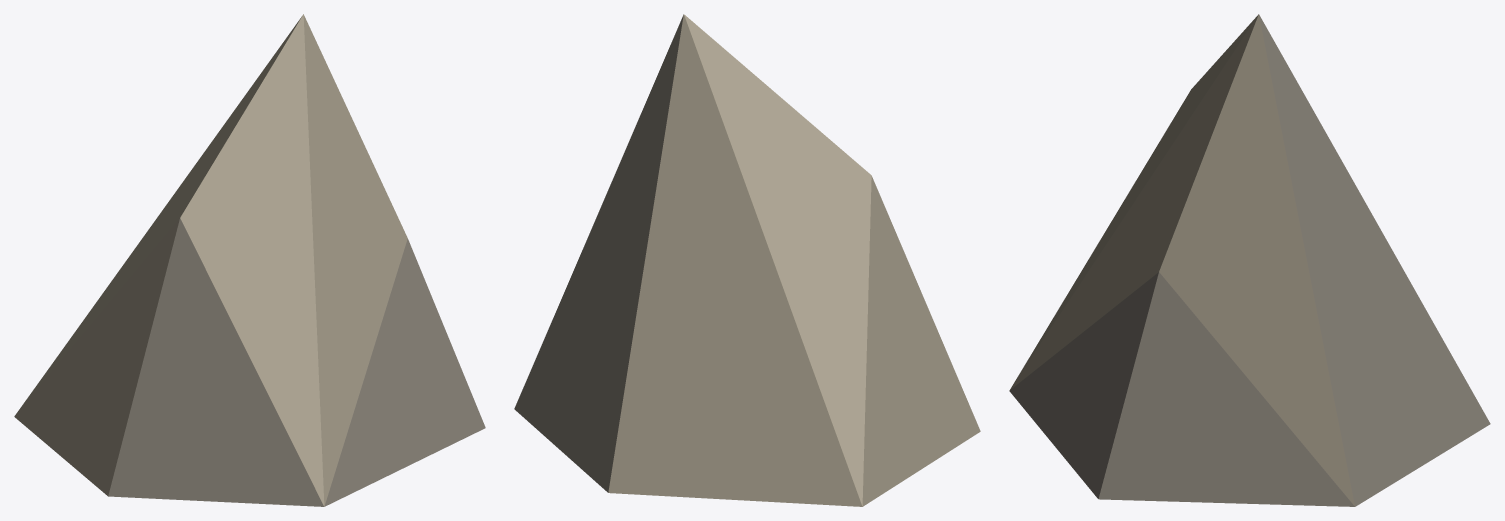
The model's file is Mountain_Cluster.fbx.
3 views of the same model, side by side, from view 1: azimuth 30°, elevation 25°; view 2: azimuth 150°, elevation 25°; view 3: azimuth 270°, elevation 25° (orthographic). The views are drawn at different scales.
Parts seen in each view (by area): view 1: Mountain_Cluster; view 2: Mountain_Cluster; view 3: Mountain_Cluster.
Part boxes in pixels (x1,y1,x2,y2): Mountain_Cluster: (14, 14, 485, 506); Mountain_Cluster: (514, 14, 980, 506); Mountain_Cluster: (1009, 14, 1490, 506).
Bounding box in the file's own units: 1.31 × 1.32 × 1.35.
